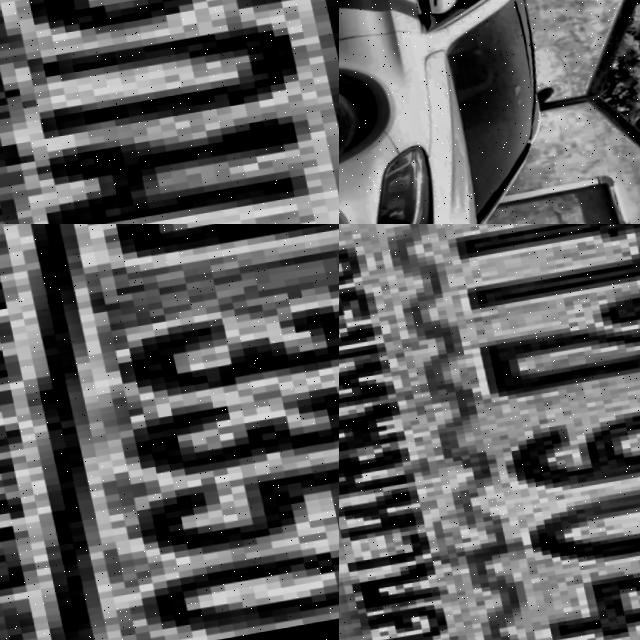license-plate: (0, 224, 339, 640), (339, 224, 640, 640), (0, 0, 339, 224)
